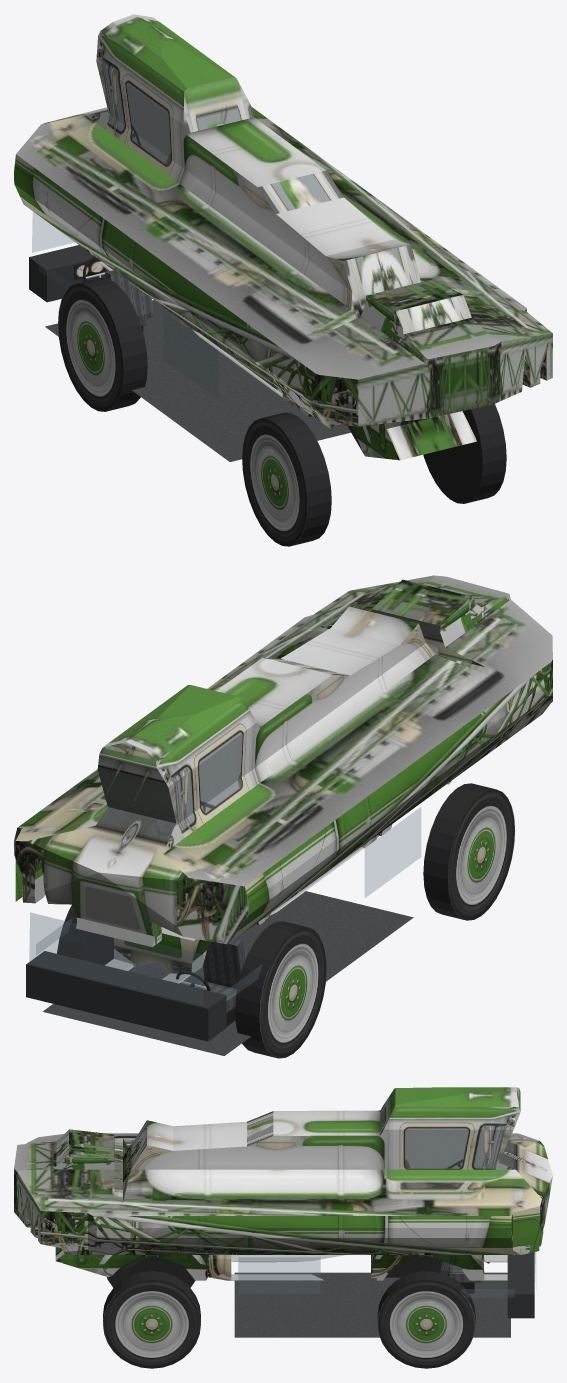
File: crop_sprayer.glb
3 views of the same model, one above another, from view 1: azimuth 30°, elevation 25°; view 2: azimuth 150°, elevation 25°; view 3: azimuth 270°, elevation 25° (orthographic). The views are drawn at different scales.
Parts seen in each view (by area): view 1: crop_sprayer, crop_sprayer_cabin, wheel_BL, wheel_FL, wheel_BR; view 2: crop_sprayer, crop_sprayer_cabin, wheel_BL, wheel_FL, wheel_FR; view 3: crop_sprayer, crop_sprayer_cabin, wheel_FR, wheel_BR, wheel_BL, wheel_FL.
Boxes of the visible parts, box(x1,y1,x2,y2) form: crop_sprayer: box(14, 14, 552, 460); crop_sprayer_cabin: box(29, 212, 350, 461); wheel_BL: box(242, 412, 331, 546); wheel_FL: box(58, 277, 147, 411); wheel_BR: box(423, 404, 506, 503); crop_sprayer: box(14, 575, 552, 983); crop_sprayer_cabin: box(26, 807, 420, 1055); wheel_BL: box(423, 783, 515, 920); wheel_FL: box(235, 921, 326, 1058); wheel_FR: box(57, 905, 113, 965); crop_sprayer: box(14, 1087, 552, 1280); crop_sprayer_cabin: box(234, 1252, 535, 1337); wheel_FR: box(377, 1271, 475, 1368); wheel_BR: box(103, 1271, 200, 1368); wheel_BL: box(107, 1255, 195, 1287); wheel_FL: box(385, 1255, 449, 1277).
Bounding box in the file's own units: 2.97 × 3.94 × 7.98.
Materials: 12 (4 with a texture image).
